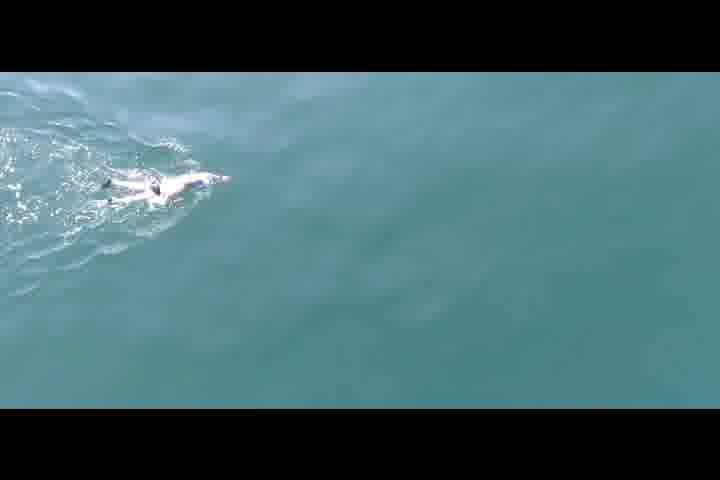swimmer: (100, 164, 226, 211)
